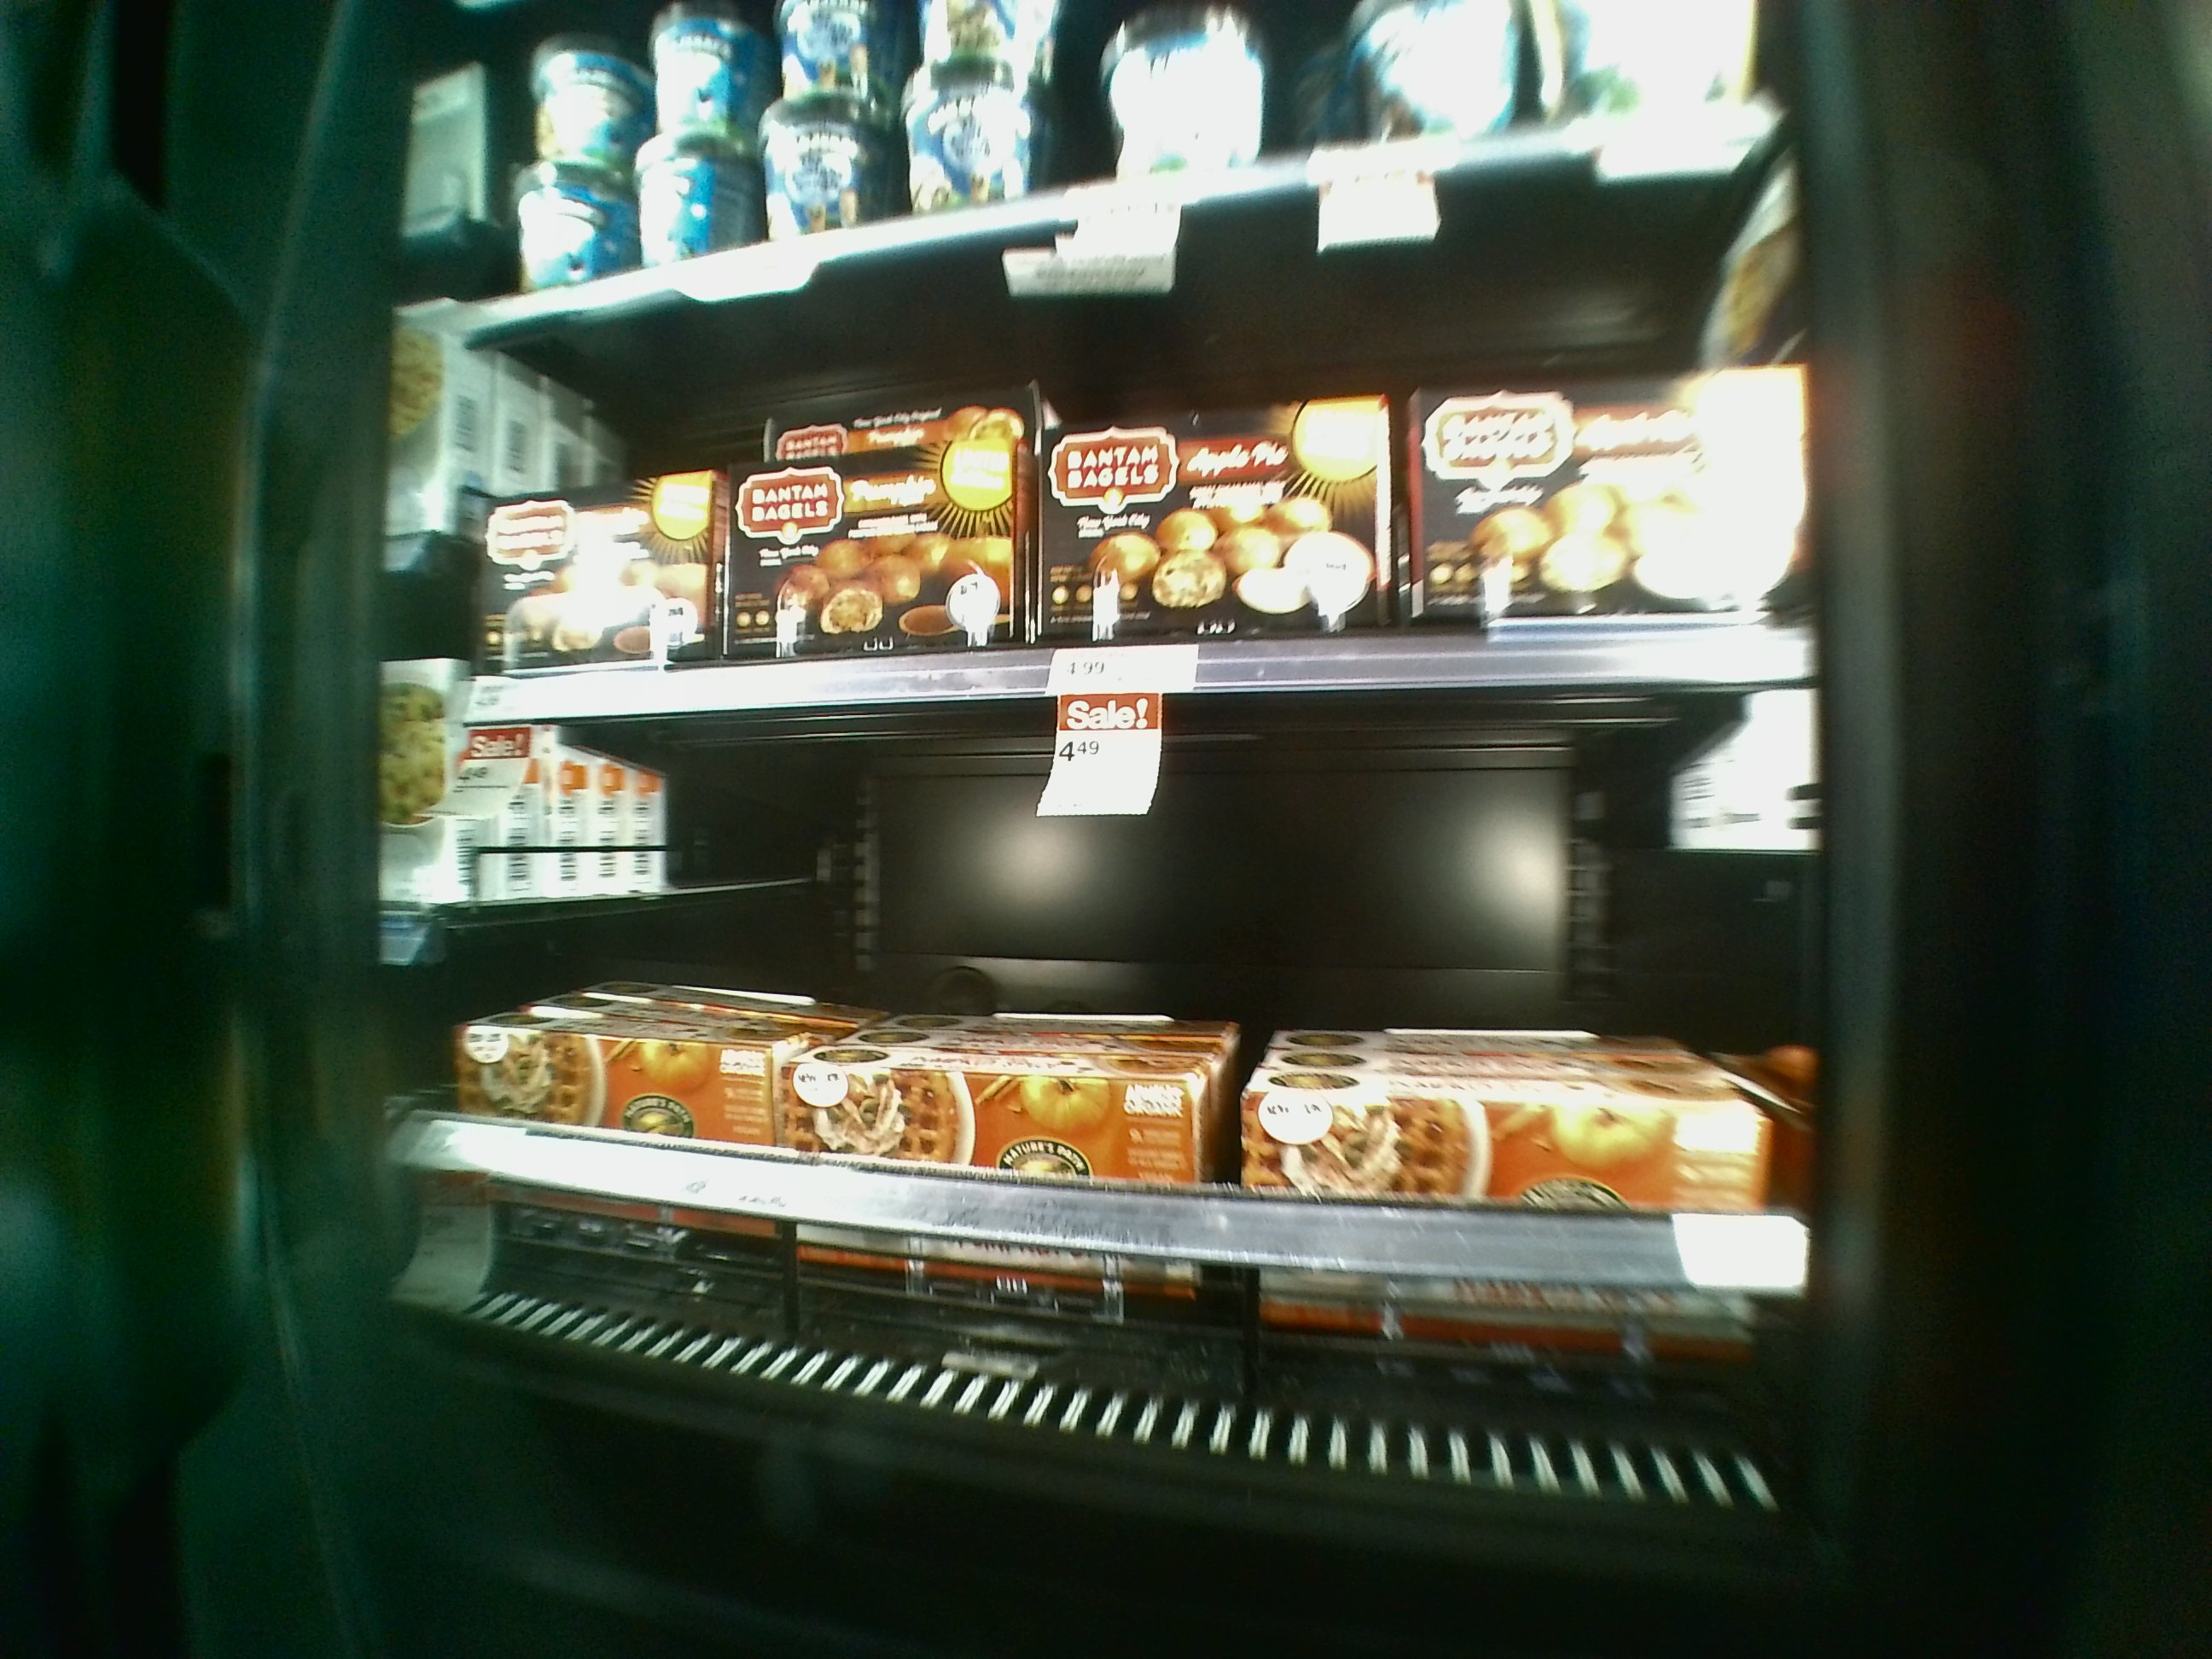shelf: (451, 655, 1804, 1480), (474, 249, 1817, 678)
